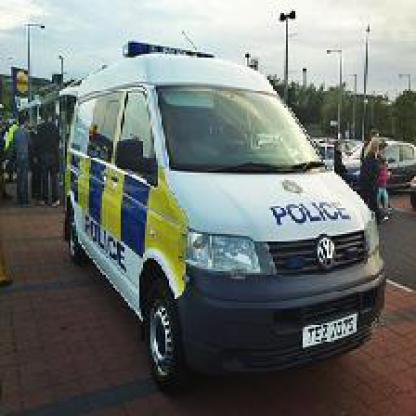emergency: (58, 36, 388, 397)
